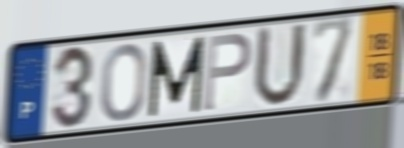3: (49, 43, 95, 133)
7: (311, 14, 359, 108)
M: (146, 33, 207, 120)
O: (98, 41, 149, 124)
P: (201, 31, 254, 115)
U: (251, 21, 309, 111)
